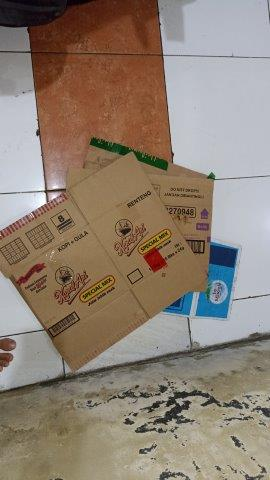kardus: (1, 139, 238, 369)
